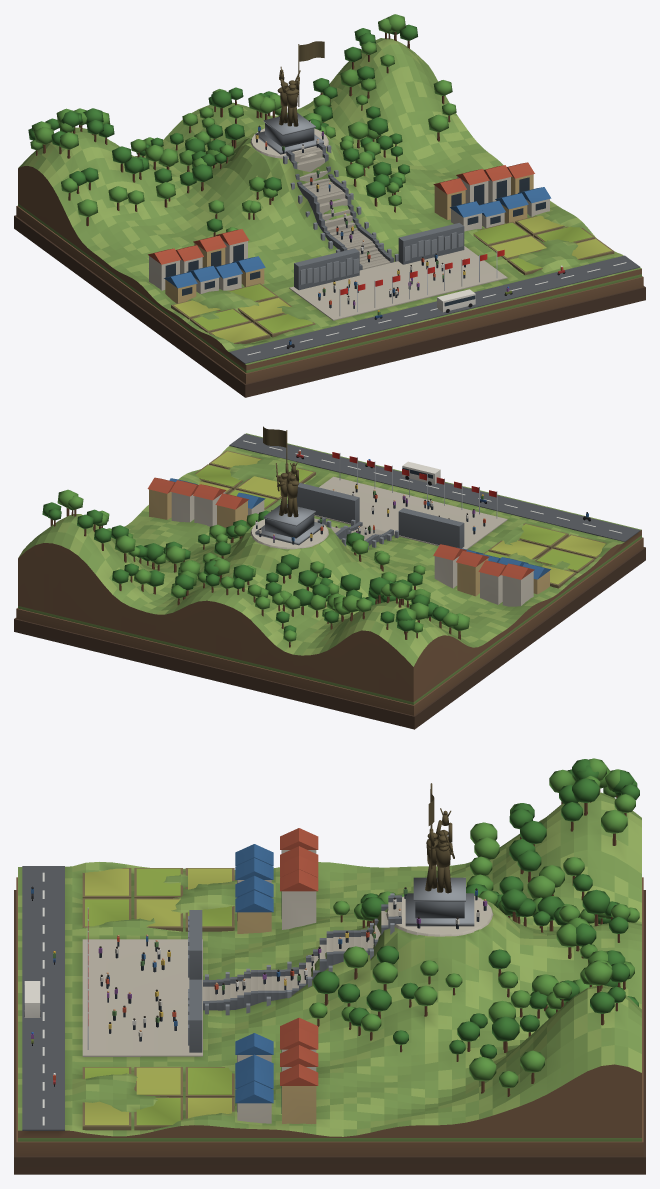
Rendered from tuong-dai-dien-bien-phu.glb.
The picture shows the model from 3 angles, top to bottom: view 1: azimuth 30°, elevation 25°; view 2: azimuth 150°, elevation 25°; view 3: azimuth 270°, elevation 25°; orthographic projection. The views are drawn at different scales.
Visible parts, largest first — view 1: DB_DB_base; view 2: DB_DB_base; view 3: DB_DB_base.
Boxes of the visible parts, left/top/right/bottom form: DB_DB_base: left=14, top=14, right=645, bottom=397; DB_DB_base: left=14, top=426, right=645, bottom=729; DB_DB_base: left=14, top=758, right=645, bottom=1174.
Size of the model in its own units: 92 by 42.06 by 92.
1 material, 1 textured.
